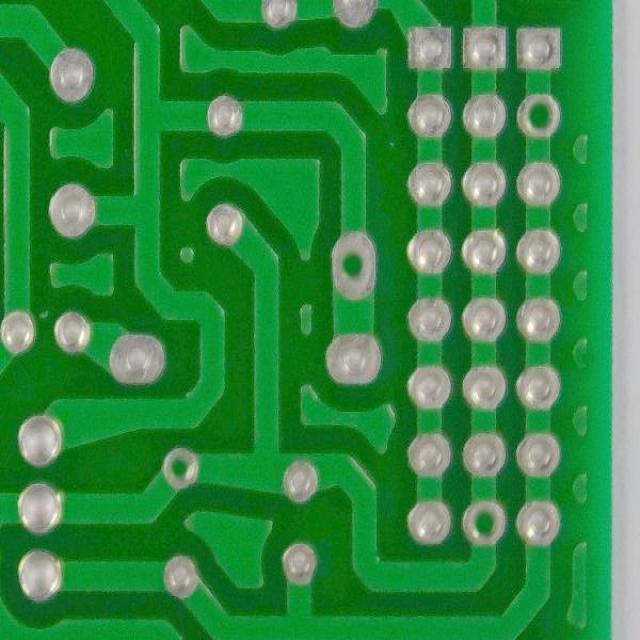missing hole: (324, 225, 384, 307), (456, 495, 511, 552), (513, 91, 570, 140), (158, 443, 204, 493)
